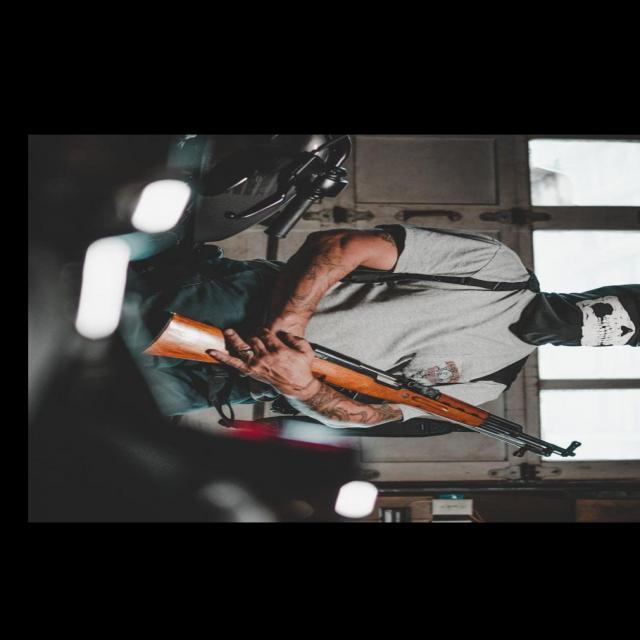weapon: (134, 311, 583, 458)
